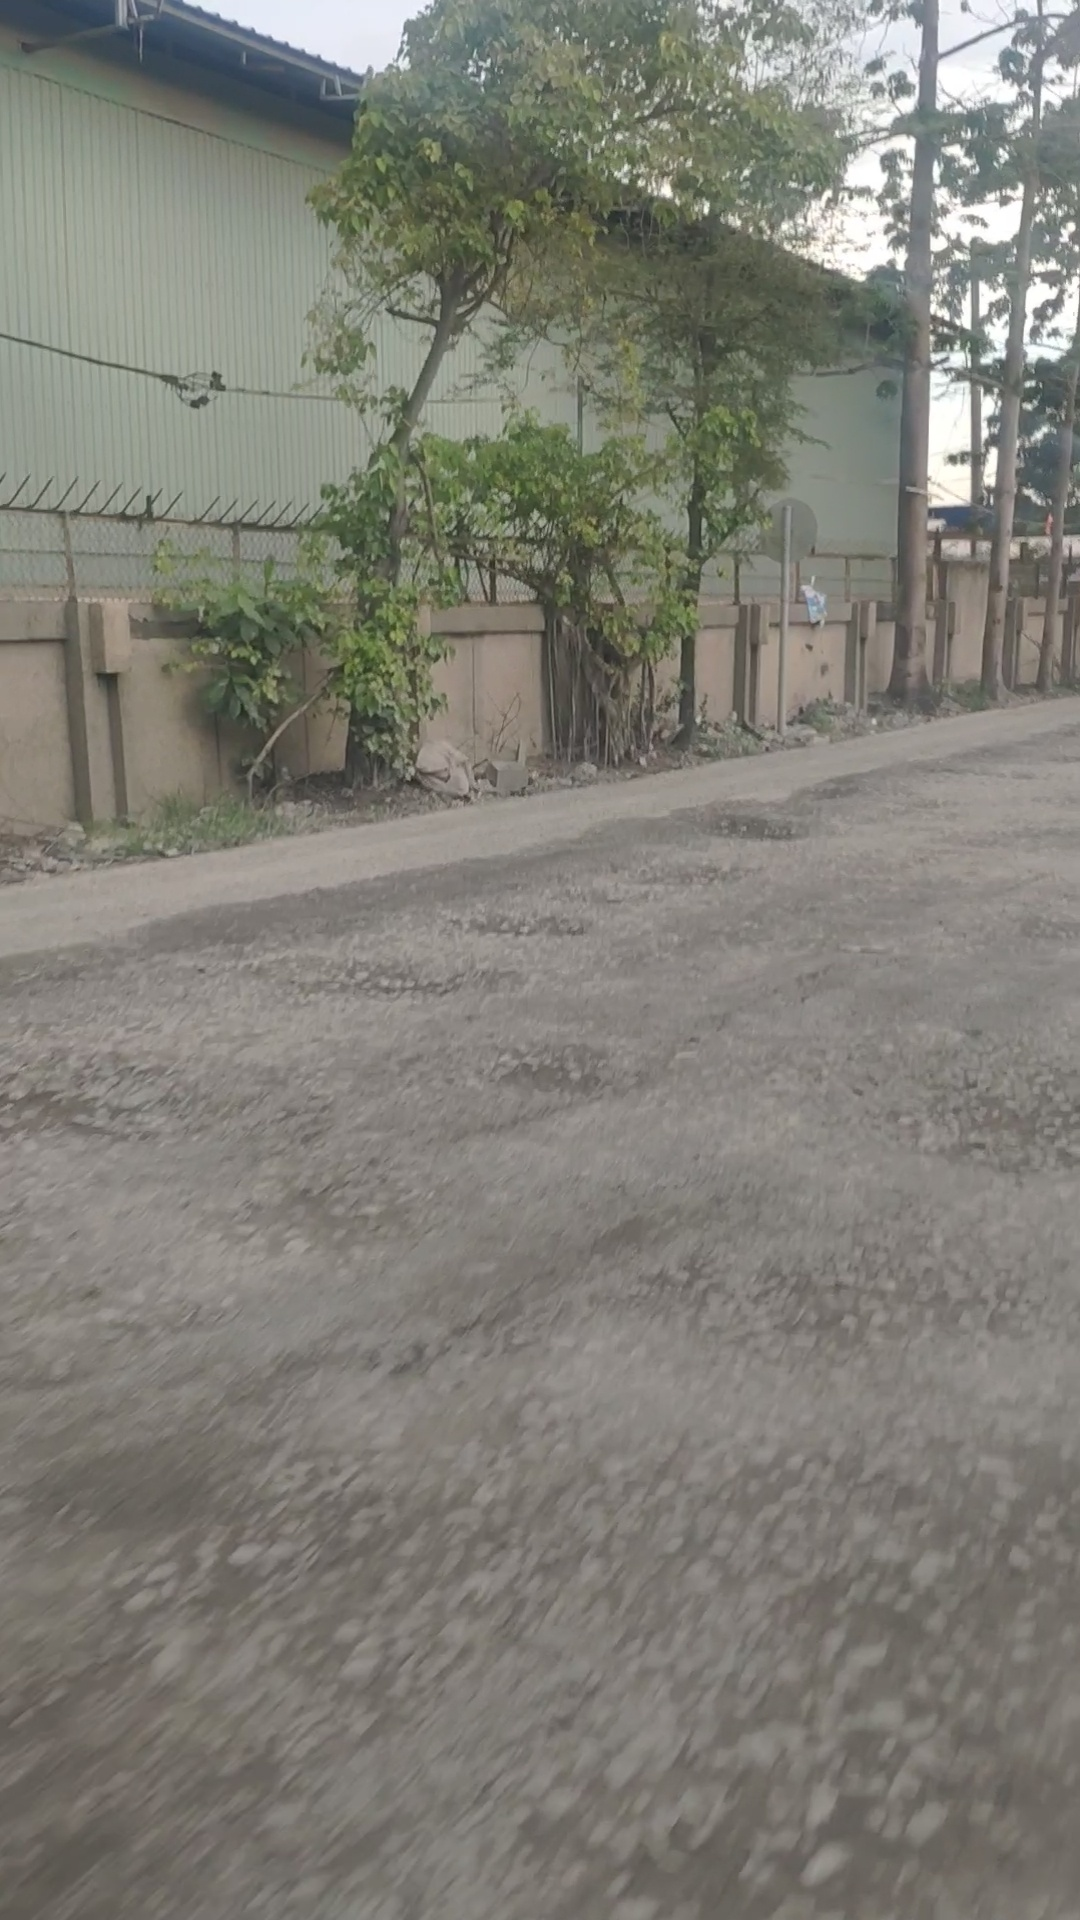hole: (657, 1197, 1080, 1416), (807, 1004, 1080, 1191), (164, 1149, 451, 1298), (1, 1027, 284, 1145), (450, 1026, 674, 1118), (224, 947, 535, 1005), (419, 903, 609, 942), (654, 804, 820, 847), (588, 855, 765, 889), (777, 774, 873, 810)
